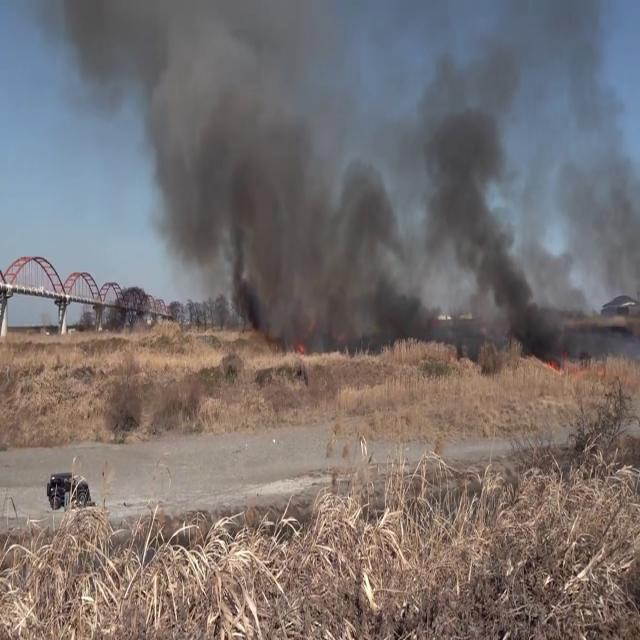Smoke: (27, 0, 393, 329), (388, 1, 640, 340)
